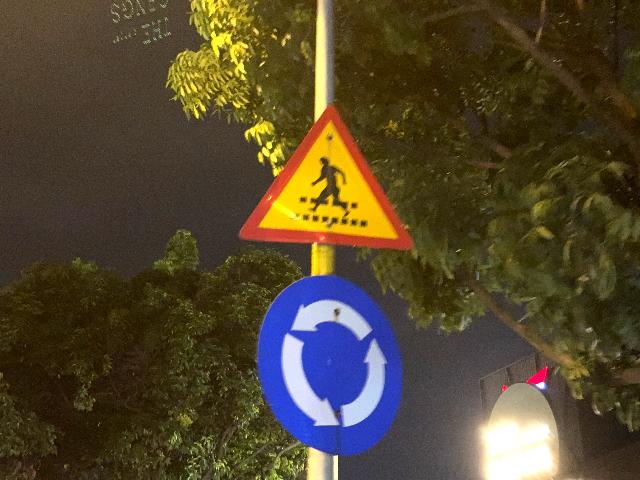duong-nguoi-di-bo-cat-ngang: (237, 103, 414, 252)
noi-giao-nhau-chay-theo-vong-xuyen: (255, 272, 402, 456)
